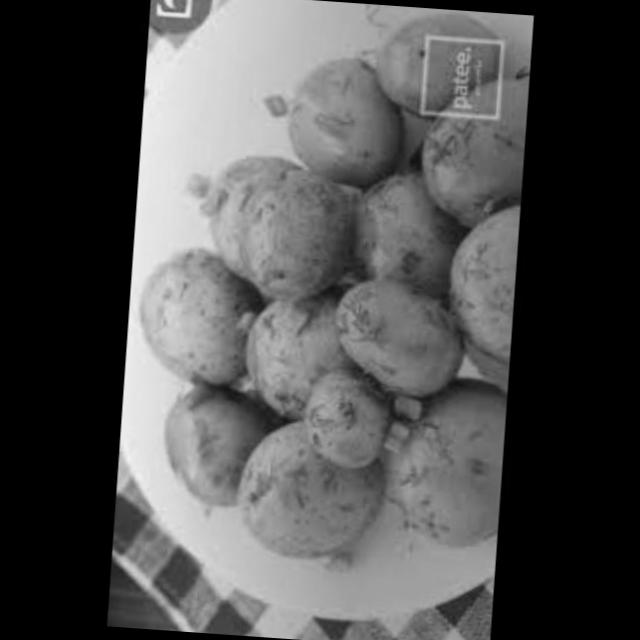khoai tay: (225, 400, 408, 566), (377, 361, 508, 550), (190, 153, 349, 300), (140, 364, 280, 520), (400, 53, 530, 221), (330, 142, 456, 298), (127, 248, 259, 394), (420, 187, 520, 360), (322, 270, 460, 393), (280, 49, 400, 187), (372, 5, 509, 116), (294, 358, 394, 479), (236, 282, 326, 414)
